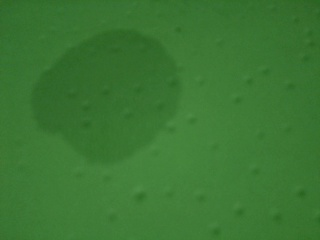Water_detected: (83, 50, 203, 153)
